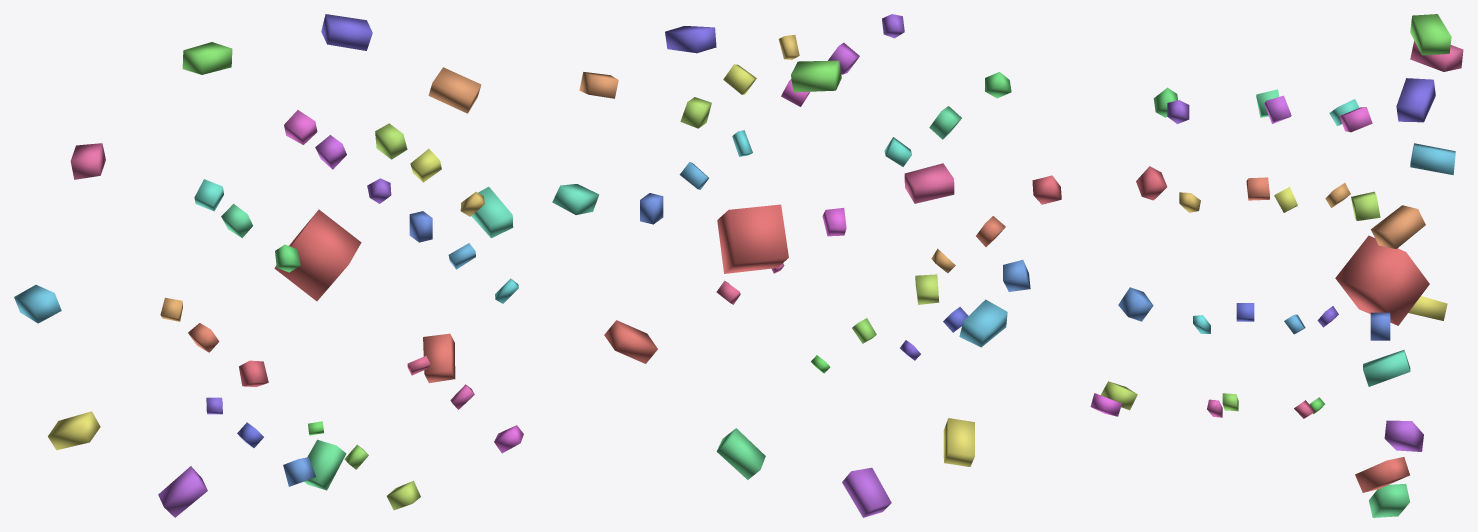
The model's file is demo_nuts.obj.
The picture shows the model from 3 angles, left to right: view 1: azimuth 30°, elevation 25°; view 2: azimuth 150°, elevation 25°; view 3: azimuth 270°, elevation 25°; orthographic projection.
Visible parts, largest first — view 1: shape_0, shape_26, shape_27, shape_34, shape_32, shape_31, shape_28, shape_33, shape_25, shape_30, shape_29, shape_2 (+9 smaller); view 2: shape_0, shape_32, shape_29, shape_28, shape_30, shape_31, shape_33, shape_34, shape_27, shape_25, shape_26, shape_22 (+7 smaller); view 3: shape_0, shape_26, shape_27, shape_28, shape_34, shape_33, shape_30, shape_25, shape_32, shape_29, shape_22, shape_21 (+10 smaller).
Part boxes in pixels (box(x1,y1,x2,y2)): shape_0: box(274, 209, 361, 301); shape_26: box(428, 67, 481, 113); shape_27: box(321, 14, 372, 50); shape_34: box(423, 333, 455, 383); shape_32: box(158, 466, 207, 517); shape_31: box(48, 411, 100, 450); shape_28: box(182, 42, 232, 74); shape_33: box(304, 439, 346, 490); shape_25: box(471, 186, 513, 238); shape_30: box(14, 285, 61, 323); shape_29: box(70, 143, 105, 179); shape_2: box(375, 123, 407, 159); shape_0: box(717, 204, 788, 273); shape_32: box(842, 467, 891, 517); shape_29: box(904, 163, 954, 203); shape_28: box(791, 60, 841, 92); shape_30: box(959, 299, 1007, 347); shape_31: box(943, 418, 974, 466); shape_33: box(716, 428, 765, 479); shape_34: box(604, 320, 657, 363); shape_27: box(665, 26, 716, 53); shape_25: box(552, 184, 599, 214); shape_26: box(579, 72, 618, 98); shape_22: box(1003, 260, 1030, 291); shape_0: box(1335, 235, 1429, 325); shape_26: box(1371, 205, 1425, 249); shape_27: box(1396, 78, 1435, 122); shape_28: box(1410, 14, 1451, 55); shape_34: box(1355, 457, 1409, 492); shape_33: box(1369, 483, 1409, 517); shape_30: box(1410, 143, 1455, 175); shape_25: box(1363, 350, 1410, 386); shape_32: box(1384, 420, 1423, 451); shape_29: box(1410, 41, 1463, 71); shape_22: box(1118, 287, 1153, 321); shape_21: box(1136, 166, 1167, 200).
Size of the model in its own units: 271 by 254 by 189.
